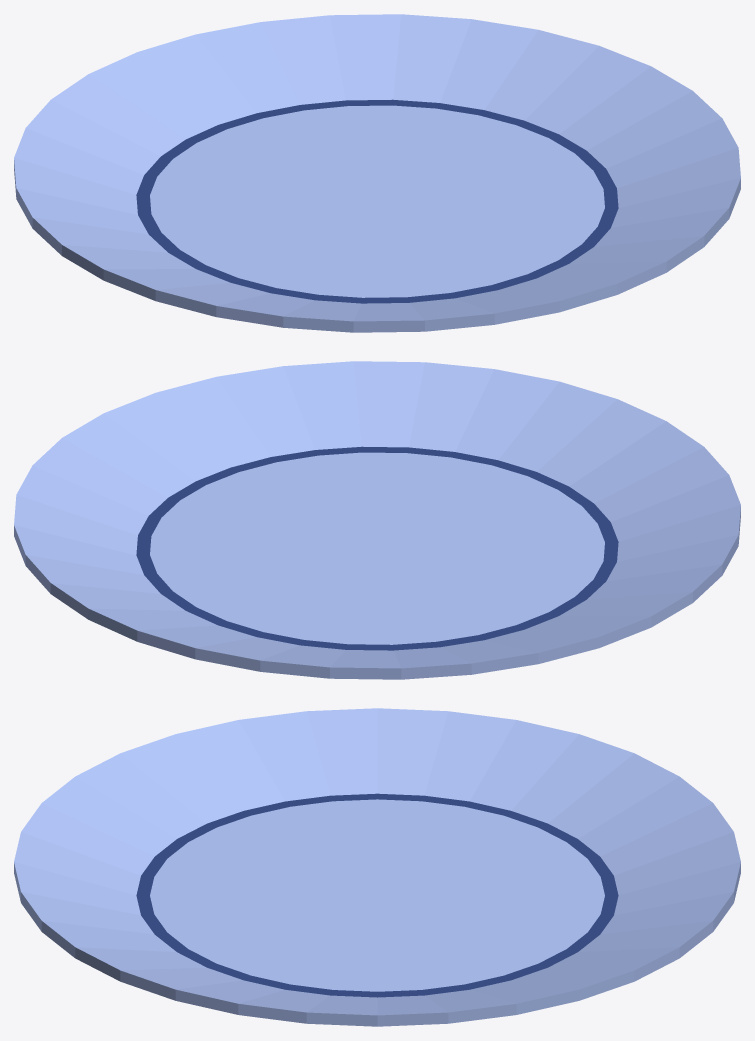
File: PlateV1.fbx
3 views of the same model, one above another, from view 1: azimuth 30°, elevation 25°; view 2: azimuth 150°, elevation 25°; view 3: azimuth 270°, elevation 25° (orthographic).
Parts seen in each view (by area): view 1: Cylinder; view 2: Cylinder; view 3: Cylinder.
Part boxes in pixels (x1,y1,x2,y2): Cylinder: [14, 14, 740, 332]; Cylinder: [14, 361, 740, 679]; Cylinder: [14, 708, 740, 1026].
Size of the model in its own units: 394 by 394 by 23.94.
